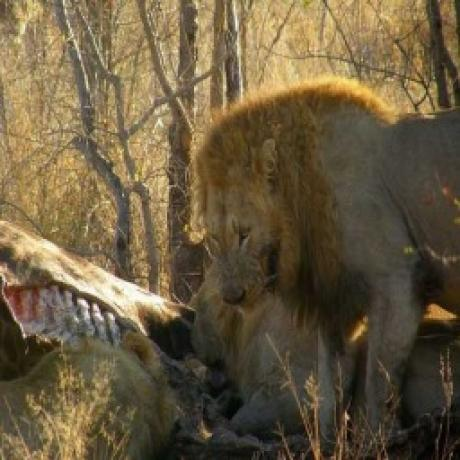Lion: (192, 75, 460, 460)
